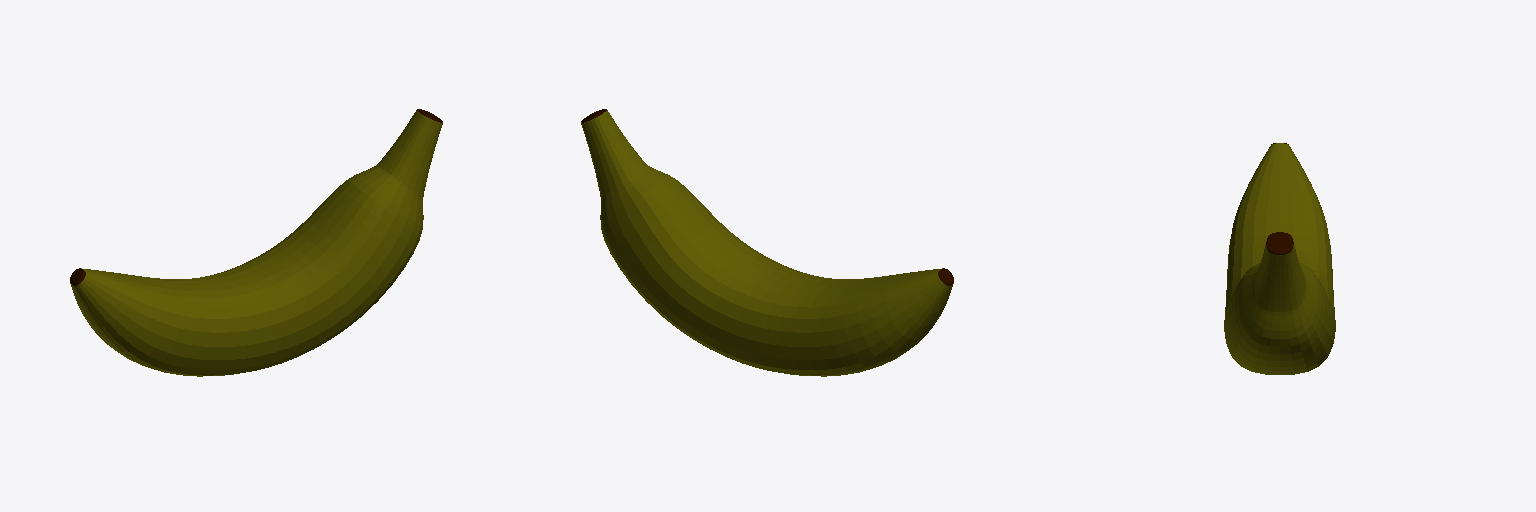
The model's file is Banana.obj.
The picture shows the model from 3 angles: view 1: azimuth 30°, elevation 25°; view 2: azimuth 150°, elevation 25°; view 3: azimuth 270°, elevation 25°; orthographic projection.
Visible parts, largest first — view 1: Banana_Cylinder.002; view 2: Banana_Cylinder.002; view 3: Banana_Cylinder.002.
Boxes of the visible parts, x1,y1,x2,y2 form: Banana_Cylinder.002: [70, 109, 442, 376]; Banana_Cylinder.002: [581, 109, 953, 376]; Banana_Cylinder.002: [1224, 143, 1335, 374].
Bounding box in the file's own units: 2.25 × 1.21 × 0.5928.